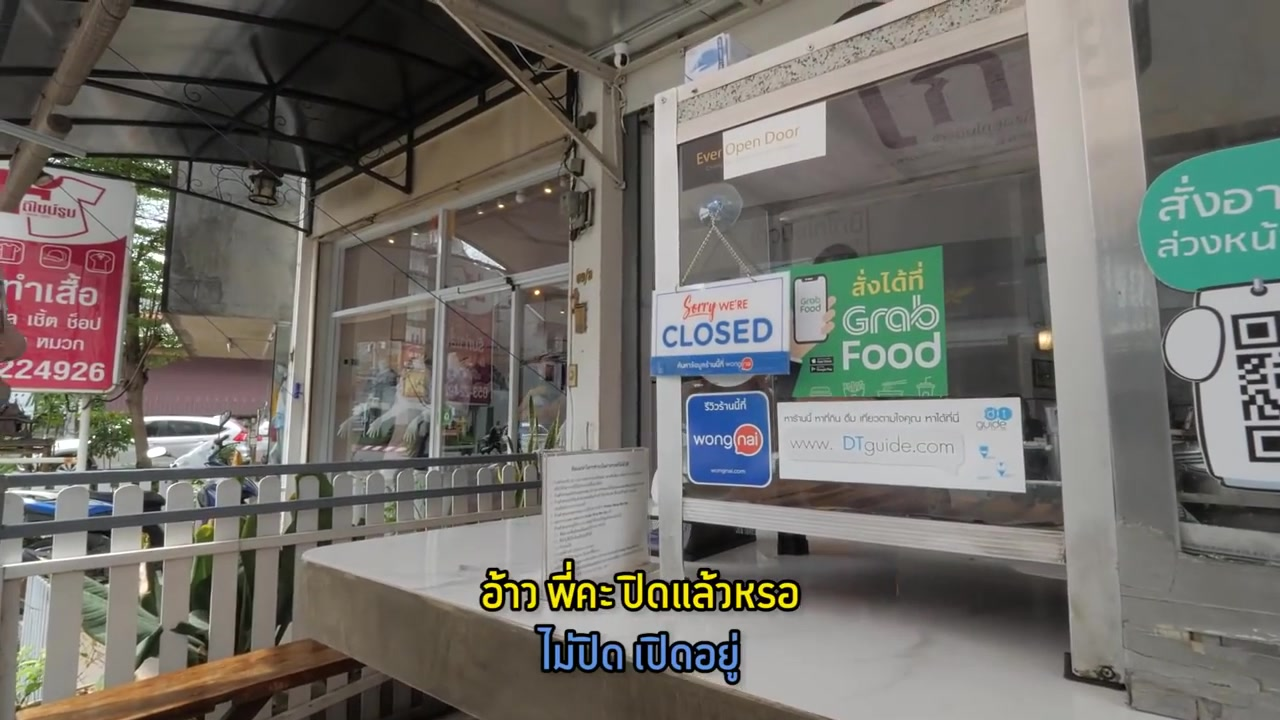text-label: (477, 556, 802, 618), (530, 623, 744, 686)
